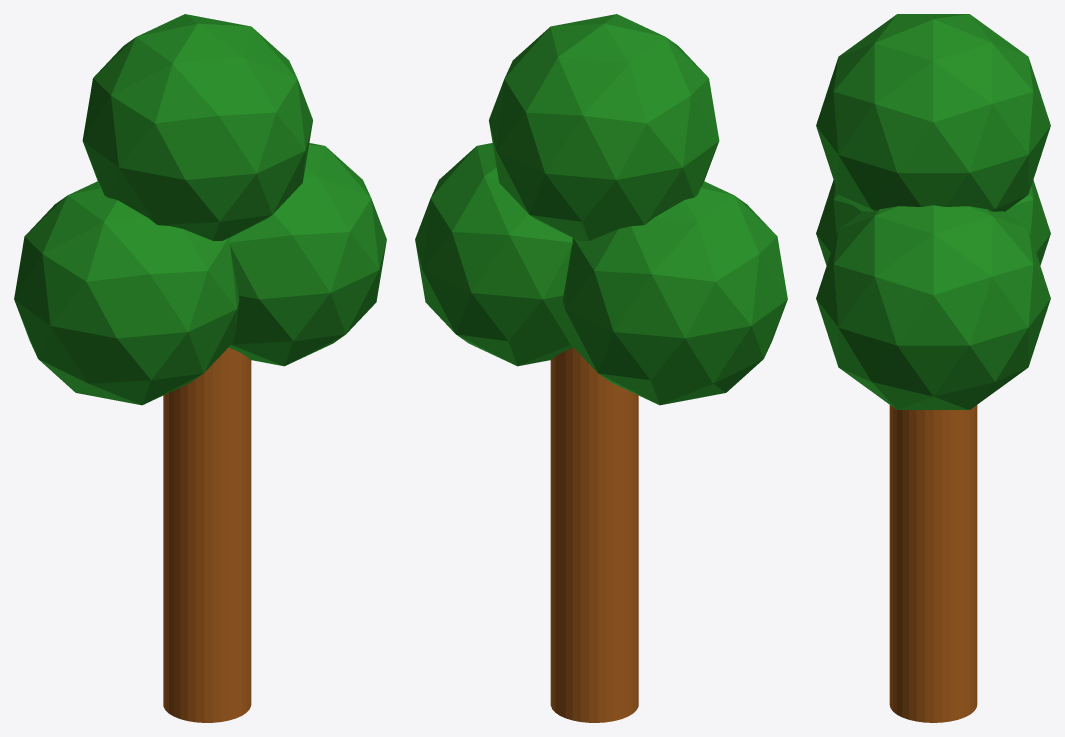
The model's file is big.glb.
The picture shows the model from 3 angles, left to right: view 1: azimuth 30°, elevation 25°; view 2: azimuth 150°, elevation 25°; view 3: azimuth 270°, elevation 25°; orthographic projection.
Parts seen in each view (by area): view 1: big; view 2: big; view 3: big.
Part boxes in pixels (x1,y1,x2,y2): big: [14, 14, 386, 722]; big: [415, 14, 787, 722]; big: [816, 14, 1050, 722].
Bounding box in the file's own units: 2.32 × 4.5 × 1.41.
